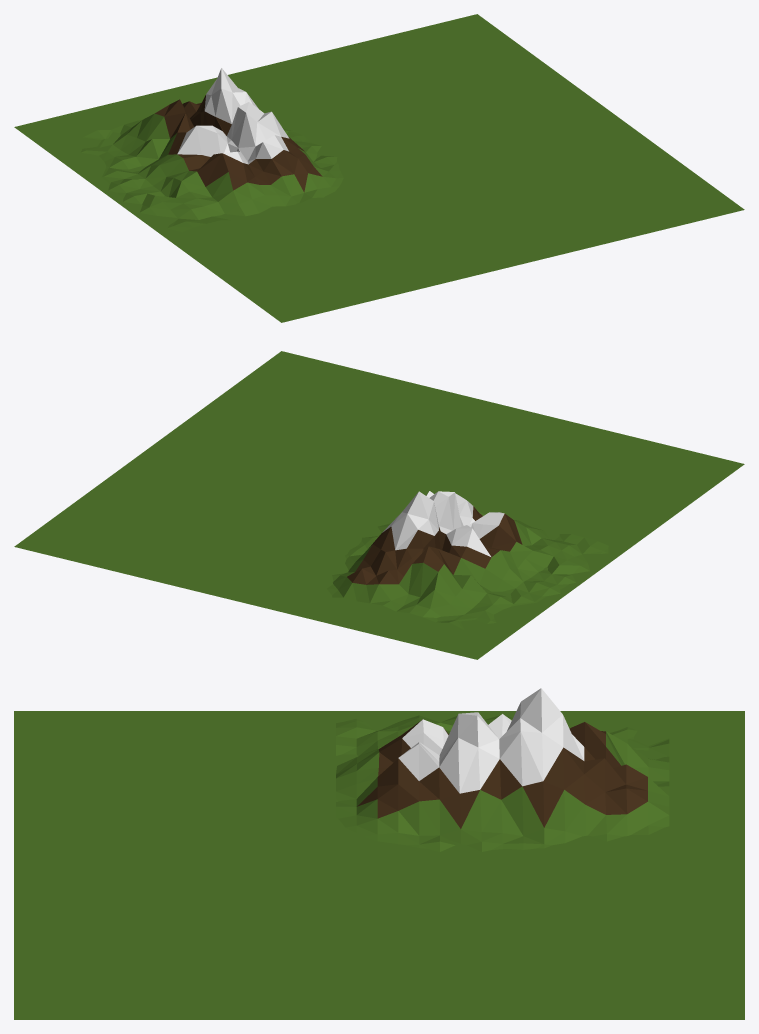
The model's file is mountains.glb.
3 views of the same model, one above another, from view 1: azimuth 30°, elevation 25°; view 2: azimuth 150°, elevation 25°; view 3: azimuth 270°, elevation 25° (orthographic). The views are drawn at different scales.
Visible parts, largest first — view 1: Terrain, Mountain; view 2: Terrain, Mountain; view 3: Terrain, Mountain.
Part boxes in pixels (<box>): Terrain: <box>14,14,744,322</box>; Mountain: <box>81,68,343,231</box>; Terrain: <box>14,351,744,659</box>; Mountain: <box>327,491,608,629</box>; Terrain: <box>14,711,744,1019</box>; Mountain: <box>336,688,669,851</box>.
Bounding box in the file's own units: 372 × 63.62 × 372.
